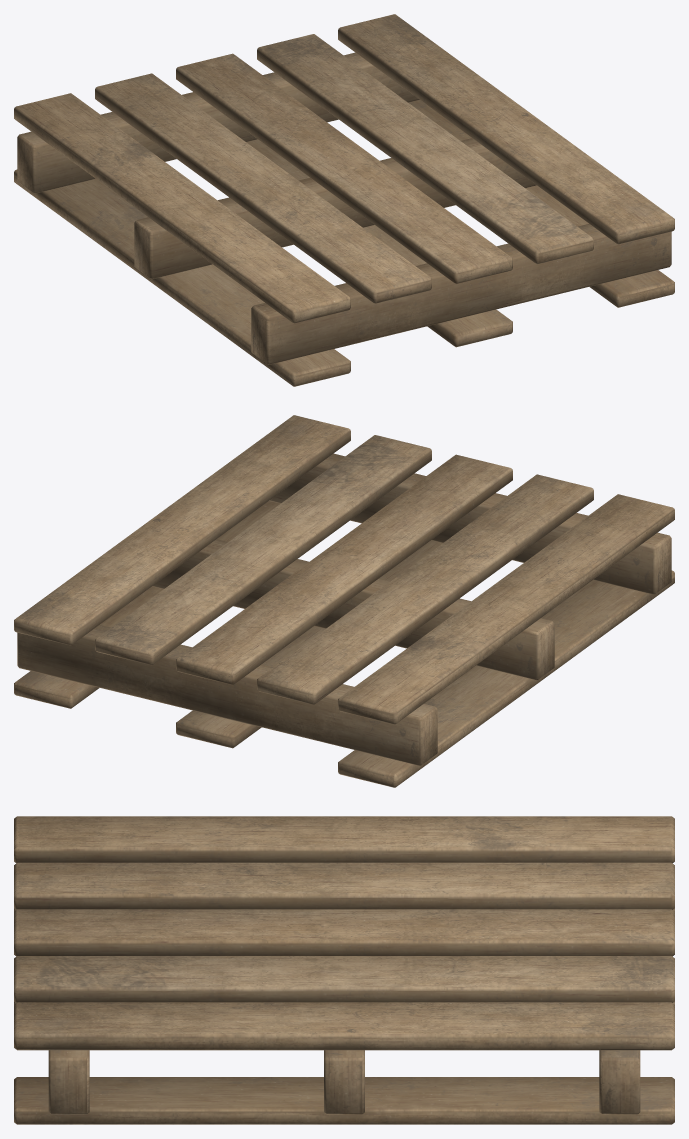
File: pallet.gltf
3 renders of one model, top to bottom at view 1: azimuth 30°, elevation 25°; view 2: azimuth 150°, elevation 25°; view 3: azimuth 270°, elevation 25°, orthographic. The views are drawn at different scales.
Parts seen in each view (by area): view 1: pallet; view 2: pallet; view 3: pallet.
Part boxes in pixels (box(x1,y1,x2,y2)): pallet: box(14, 14, 674, 386); pallet: box(14, 415, 674, 787); pallet: box(14, 816, 674, 1124).
Size of the model in its own units: 1 by 0.1818 by 1.2.
1 material, 1 textured.
